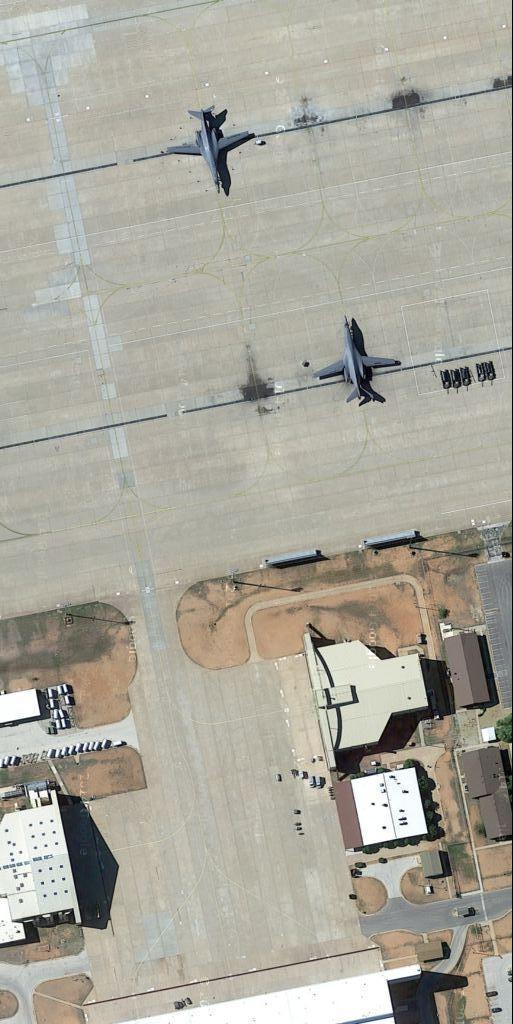B-1B: (313, 308, 404, 413), (166, 100, 252, 200)
